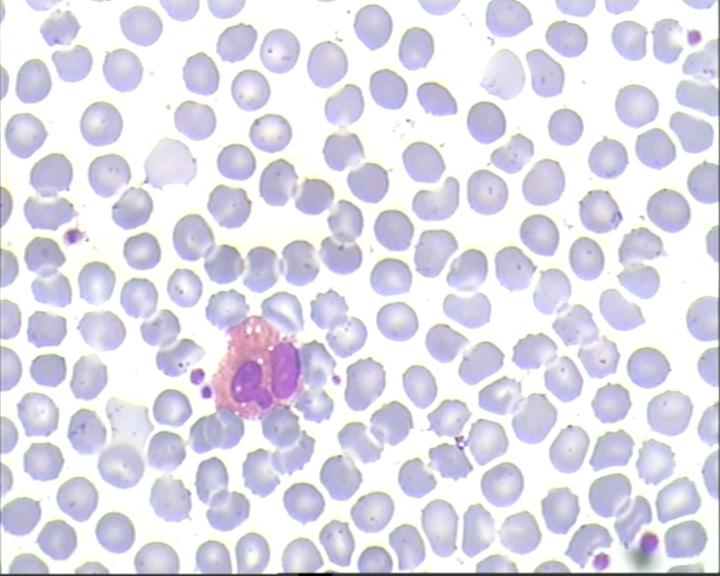eosi: (205, 315, 305, 421)
